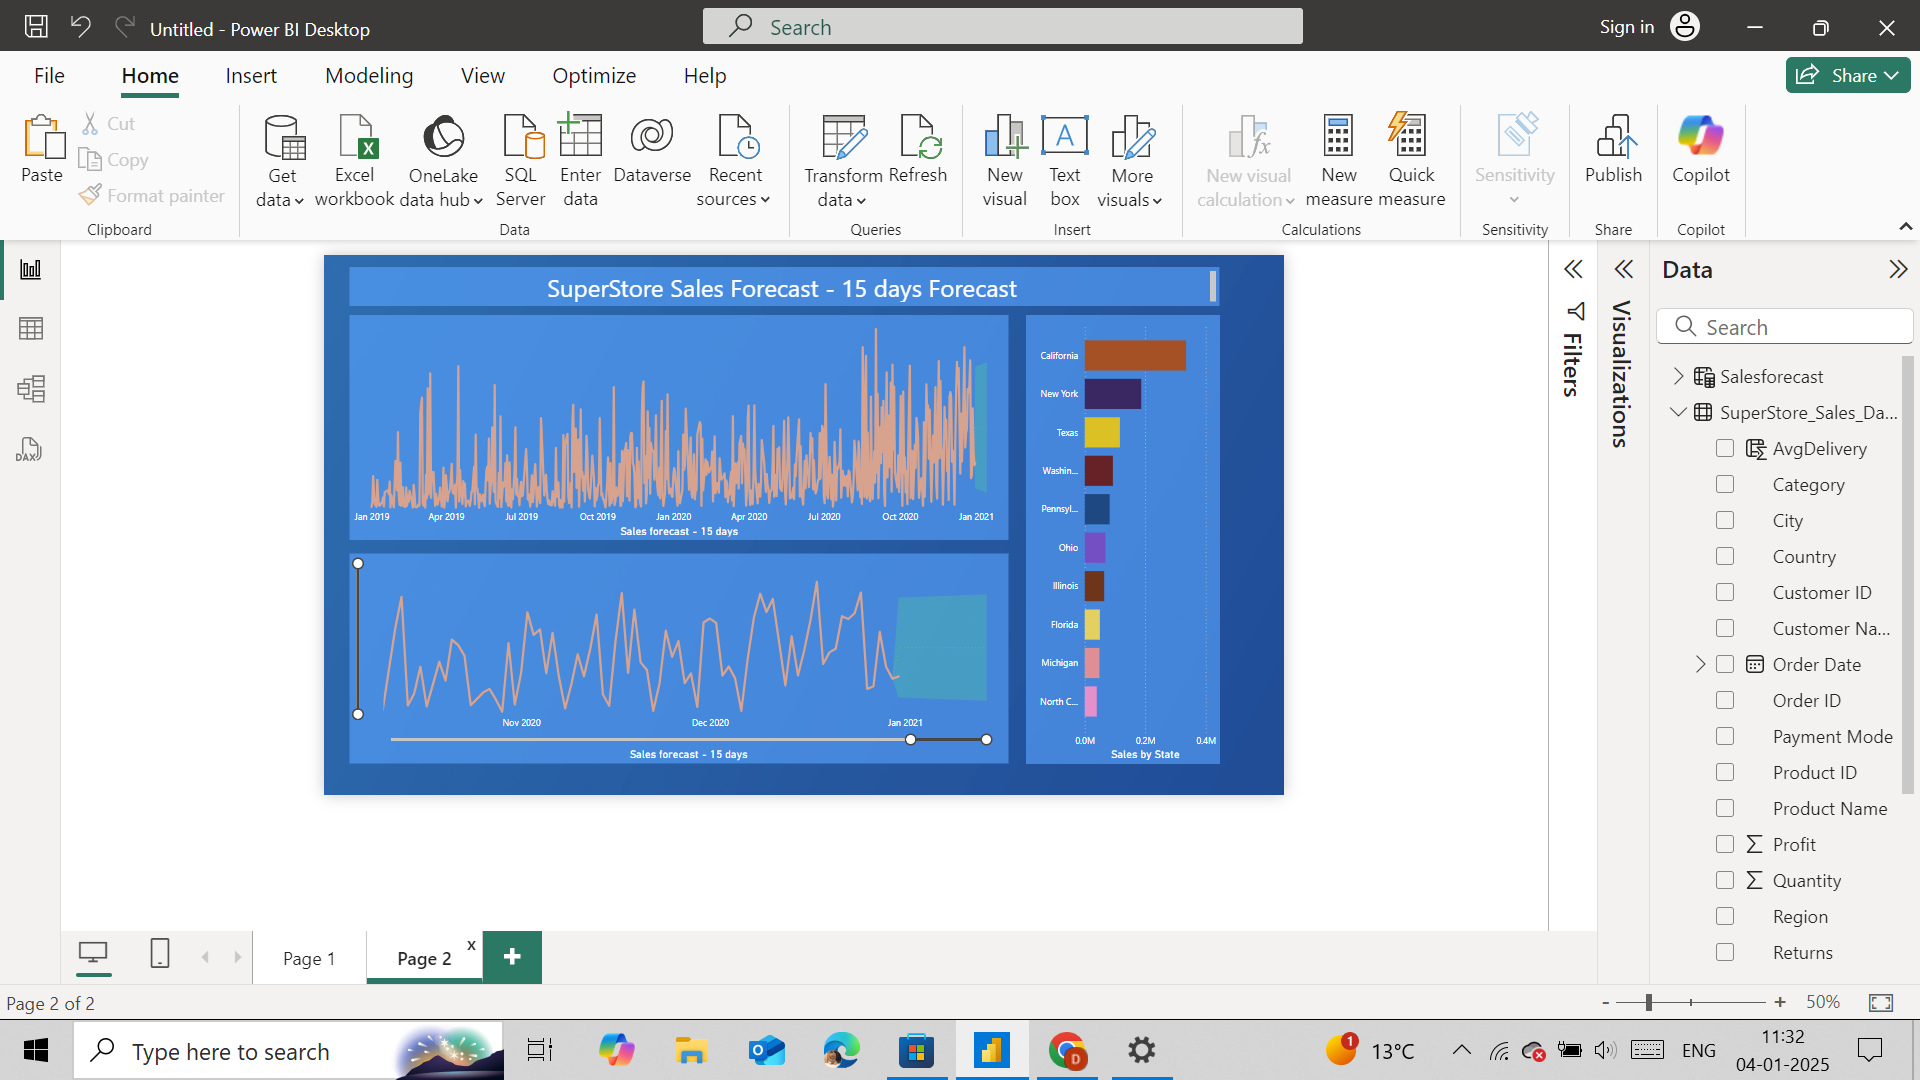

Layout of this report page (visuals, bound fields, positions):
{"tool":"powerbi","page":{"name":"Page 2","canvas":[1280,720],"ordinal":1},"visuals":[{"type":"lineChart","fields":{"Y":["Sum(SuperStore_Sales_Dataset.Sales)"],"Category":["SuperStore_Sales_Dataset.Order Date"]},"box":[33.3,80,878.3,300],"z":0},{"type":"lineChart","fields":{"Y":["Sum(SuperStore_Sales_Dataset.Sales)"],"Category":["SuperStore_Sales_Dataset.Order Date"]},"box":[33.3,398.3,878.3,280],"z":1000},{"type":"barChart","fields":{"Y":["Sum(SuperStore_Sales_Dataset.Sales)"],"Category":["SuperStore_Sales_Dataset.State"]},"box":[935,80,258.3,598.3],"z":2000},{"type":"textbox","box":[33.3,16.7,1160,51.7],"z":3000}]}

Visuals, with their boxes on the page's 1280x720 design canvas (x1, y1, x2, y2). These are canvas units, not pixel positions in the 1920x1080 screenshot, which may show the page scaled, cropped or inside an application window:
lineChart - Sum(SuperStore_Sales_Dataset.Sales) x SuperStore_Sales_Dataset.Order Date: bbox(33, 80, 912, 380)
lineChart - Sum(SuperStore_Sales_Dataset.Sales) x SuperStore_Sales_Dataset.Order Date: bbox(33, 398, 912, 678)
barChart - Sum(SuperStore_Sales_Dataset.Sales) x SuperStore_Sales_Dataset.State: bbox(935, 80, 1193, 678)
textbox: bbox(33, 17, 1193, 68)
